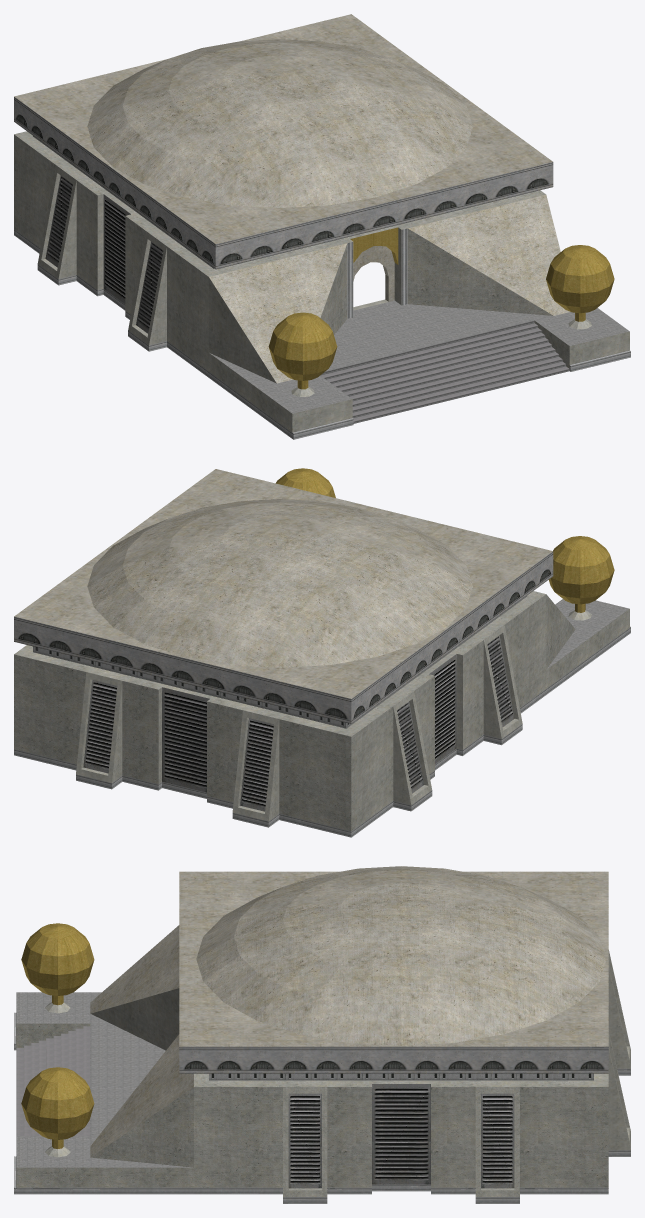
The model's file is mun_all_guild_commerce_s01_r0_exterior_mesh_all_guildcommerce_l0.fbx.
3 views of the same model, one above another, from view 1: azimuth 30°, elevation 25°; view 2: azimuth 150°, elevation 25°; view 3: azimuth 270°, elevation 25° (orthographic). The views are drawn at different scales.
Visible parts, largest first — view 1: mesh_node; view 2: mesh_node; view 3: mesh_node.
Part boxes in pixels (left/top/right/bottom): mesh_node: left=14, top=14, right=630, bottom=439; mesh_node: left=14, top=468, right=630, bottom=837; mesh_node: left=14, top=866, right=630, bottom=1203.
Size of the model in its own units: 38.75 by 18.75 by 52.08.
